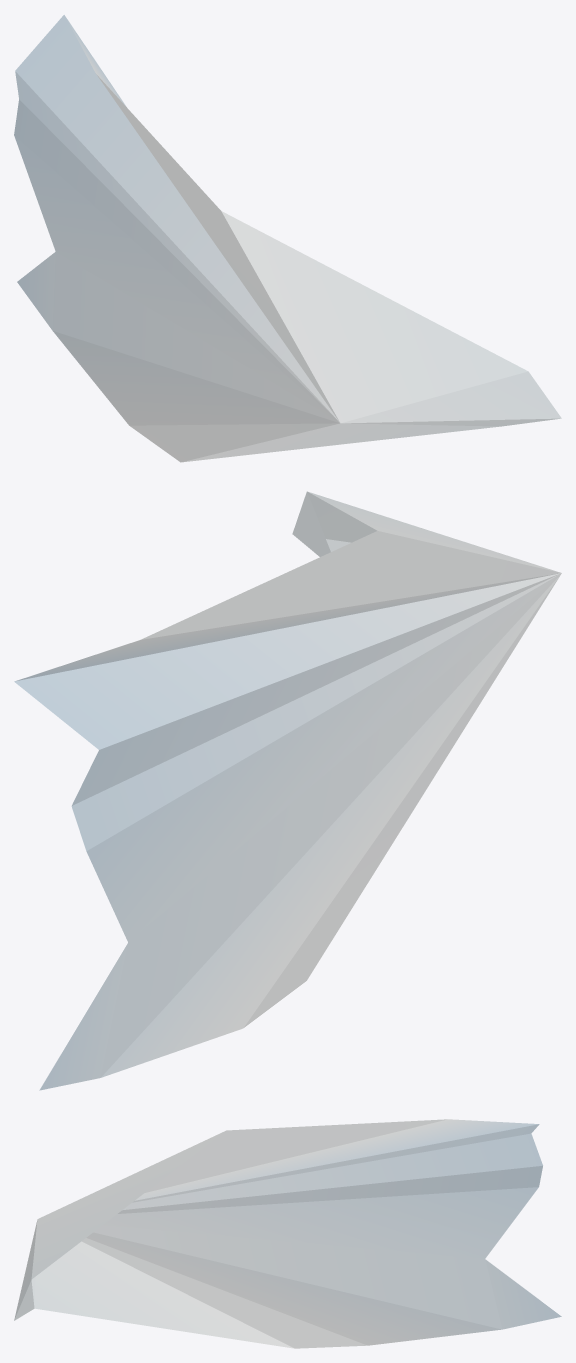
3 renders of one model, top to bottom at view 1: azimuth 30°, elevation 25°; view 2: azimuth 150°, elevation 25°; view 3: azimuth 270°, elevation 25°, orthographic. The views are drawn at different scales.
Bounding box in the file's own units: 0.3147 × 0.4652 × 0.9575.
